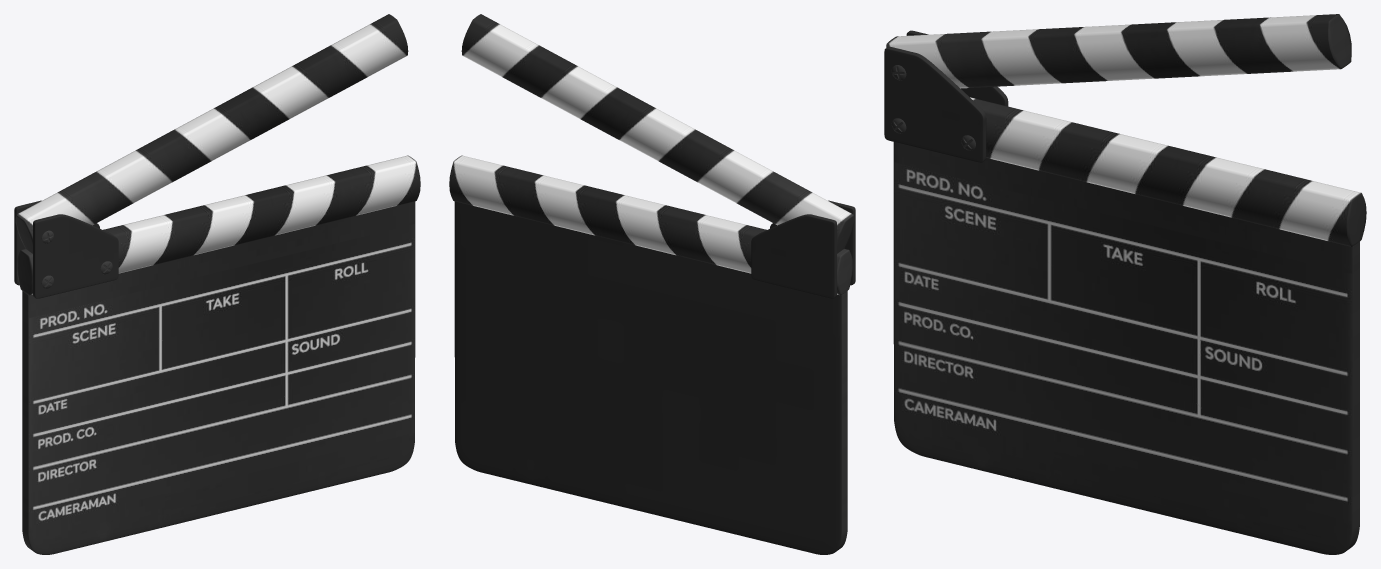
Rendered from item-01.glb.
The picture shows the model from 3 angles, left to right: view 1: azimuth 30°, elevation 25°; view 2: azimuth 150°, elevation 25°; view 3: azimuth 330°, elevation 25°; orthographic projection. The views are drawn at different scales.
Visible parts, largest first — view 1: Clapper.001; view 2: Clapper.001; view 3: Clapper.001.
Part boxes in pixels (left/top/right/bottom): Clapper.001: left=14, top=14, right=420, bottom=554; Clapper.001: left=449, top=14, right=855, bottom=554; Clapper.001: left=884, top=14, right=1366, bottom=554.
Bounding box in the file's own units: 0.8223 × 0.9035 × 0.0798.
1 material, 1 textured.
